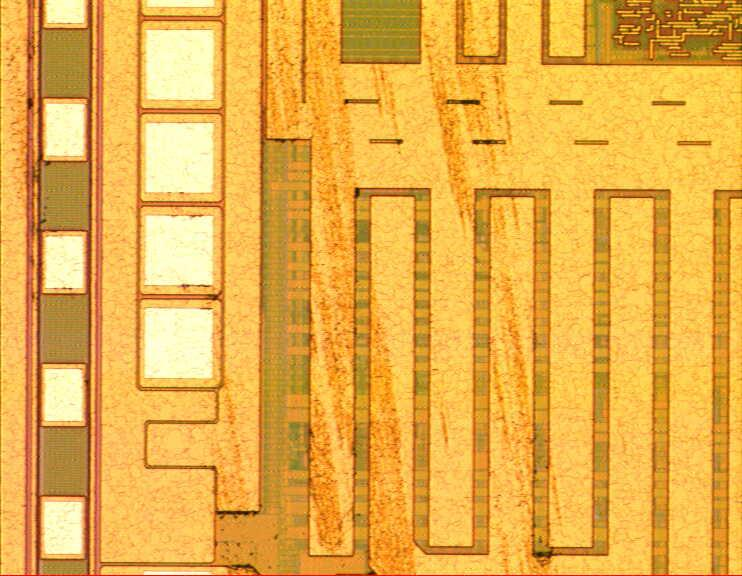SCRATCH: (166, 1, 574, 576)
